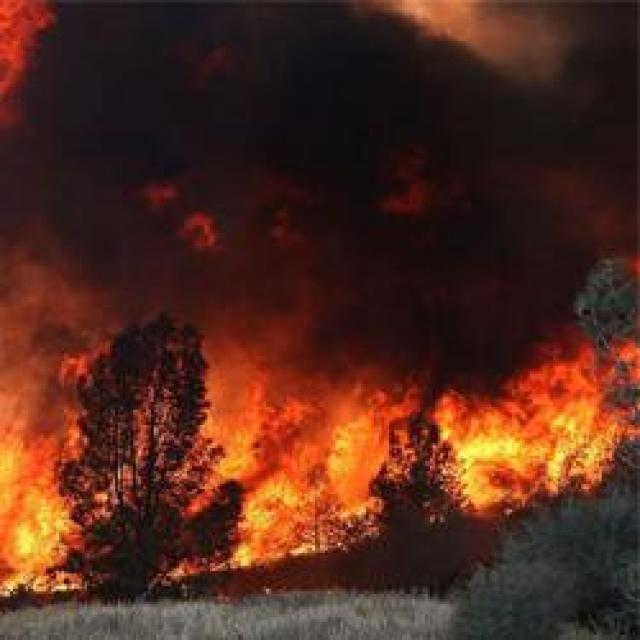fire: (0, 309, 640, 602)
